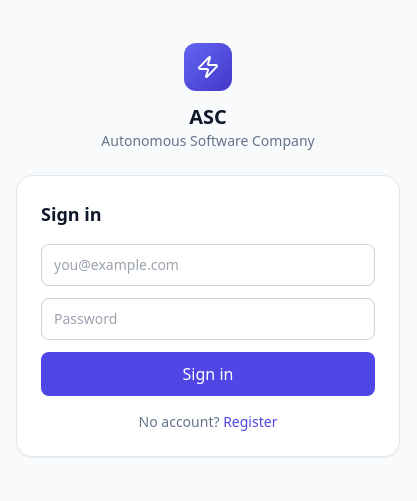
Test: LoginForm › requires email and password before submitting
The width and height of the screenshot is (417, 501).
Click the button "Sign in": (208,374) [41, 352, 375, 396]
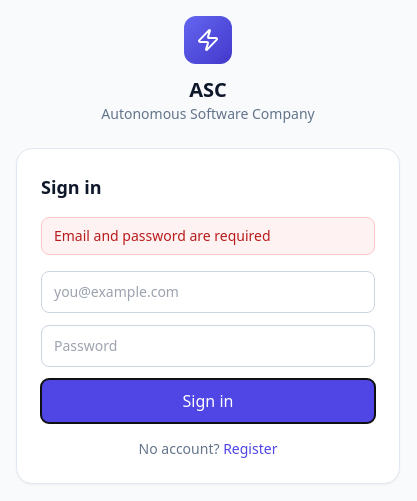
Expected: the text "Email and password are required" is shown, [41, 217, 375, 255]
